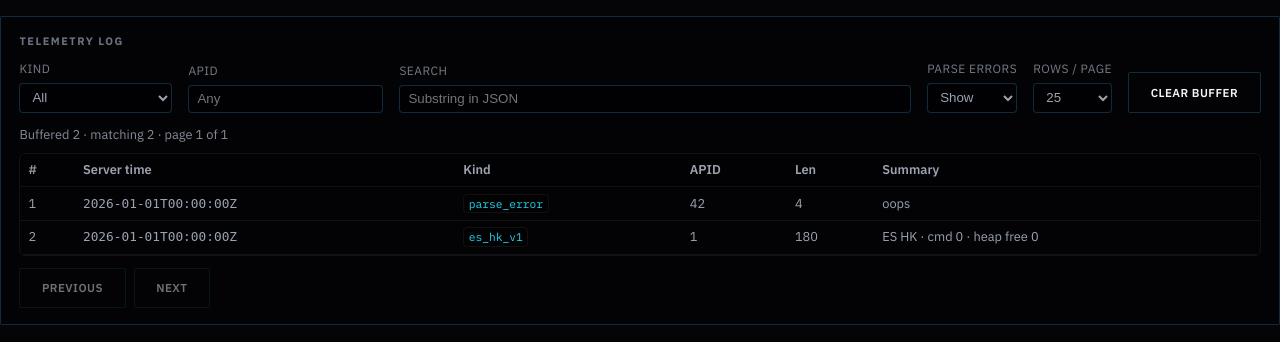
Test: TelemetryLogTable › hides parse_error when parse error visibility is set to Hide
Expected: the text "oops" is shown, [874, 187, 1260, 221]
Select "Hide" in the dropdown named "Parse error visibility". click: (972, 98)
box: [927, 83, 1017, 113]
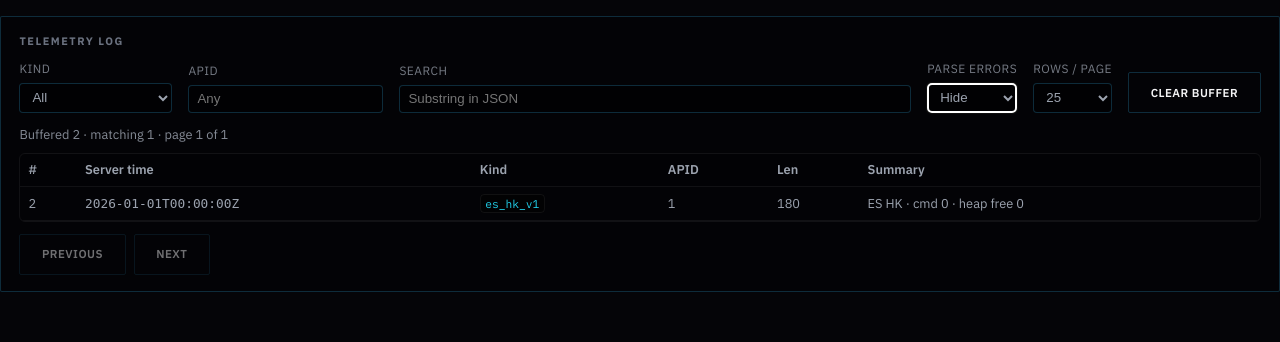
Result: the text "oops" is gone
